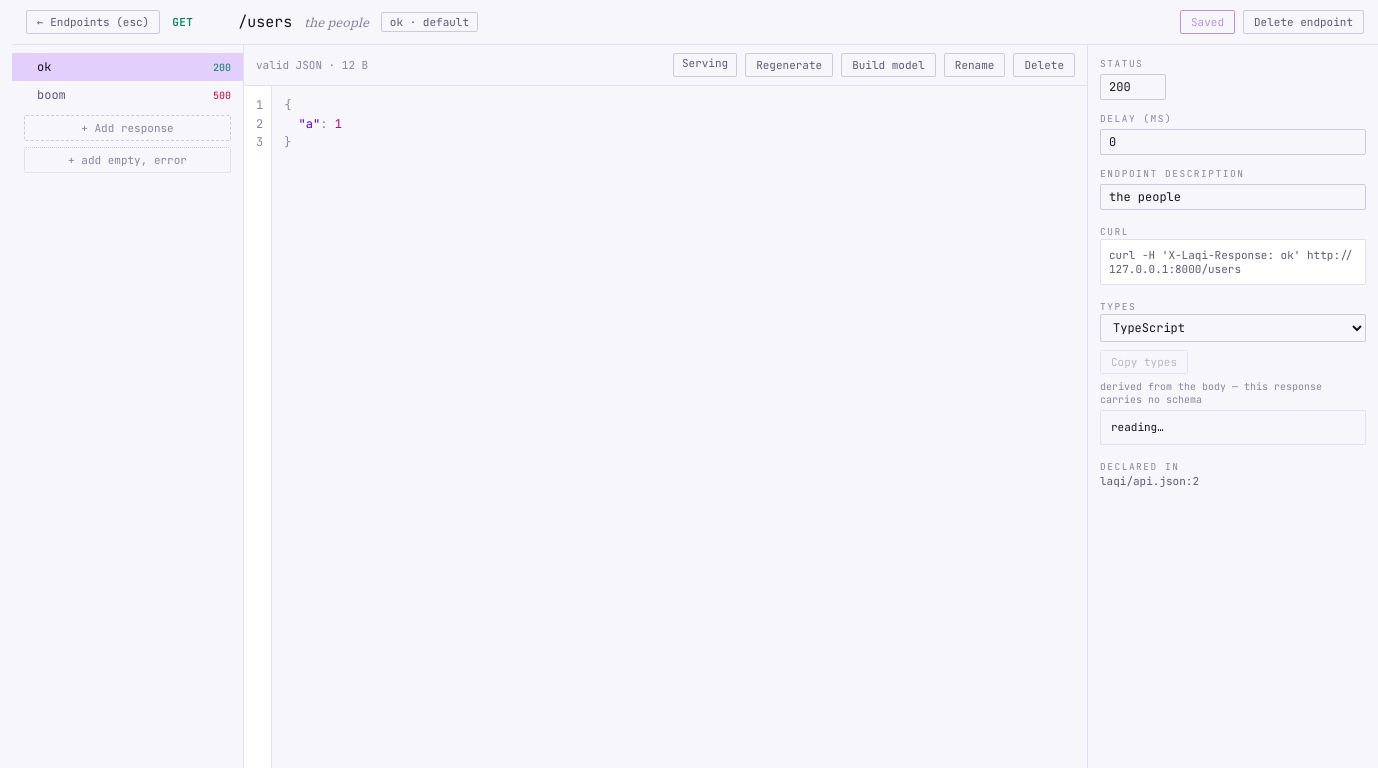
generated types and data › shows an error when Copy types fails, instead of an unhandled rejection
Click the button "Copy types" at (1144, 362), box [1100,350,1188,374]
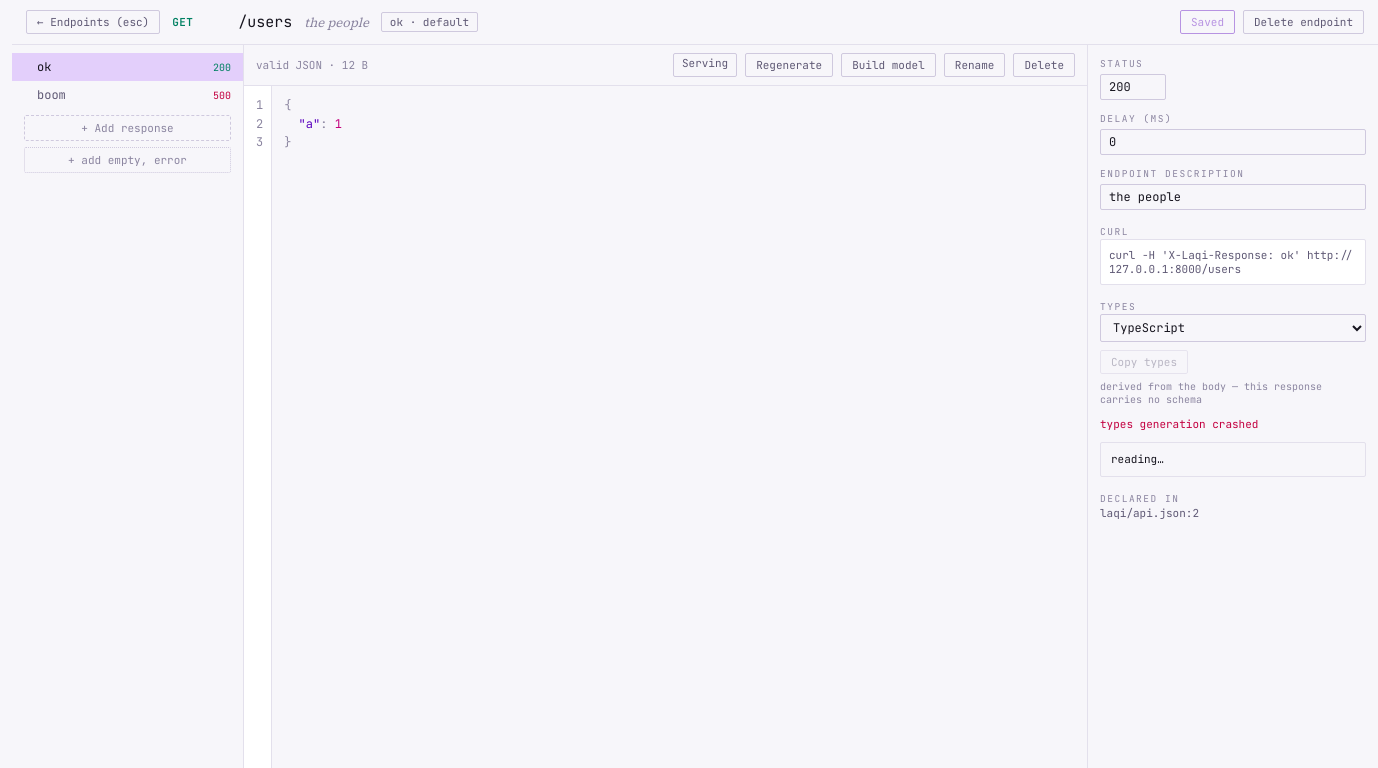
Check: the text "types generation crashed" is shown, box [1100,417,1258,431]
